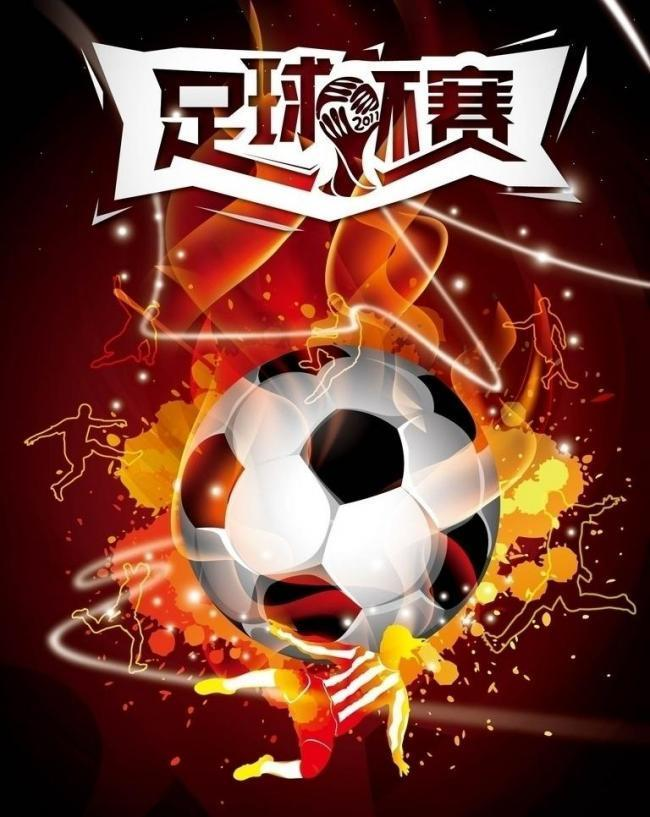football: (184, 353, 509, 665)
